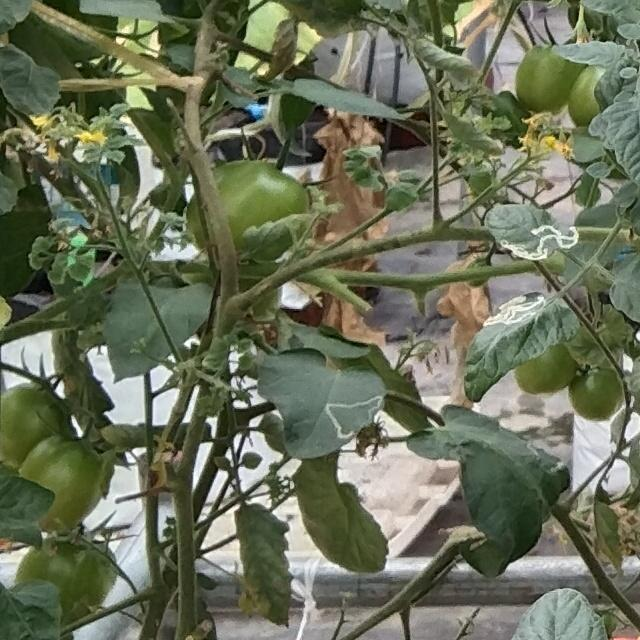Leaf_Miner: (245, 335, 389, 459), (458, 283, 582, 407), (485, 198, 586, 271)
